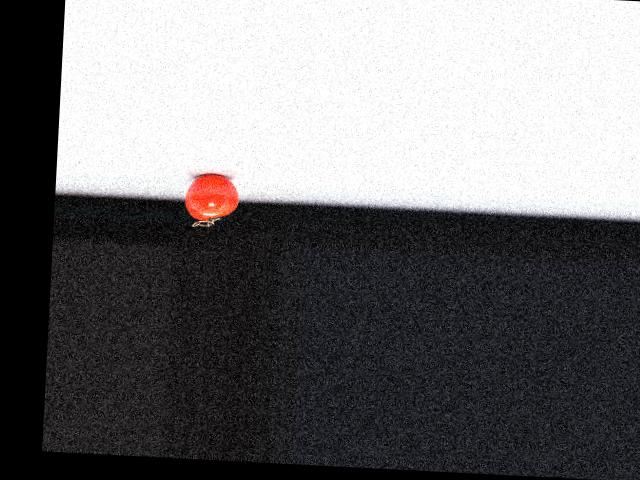tomato: (184, 172, 240, 222)
